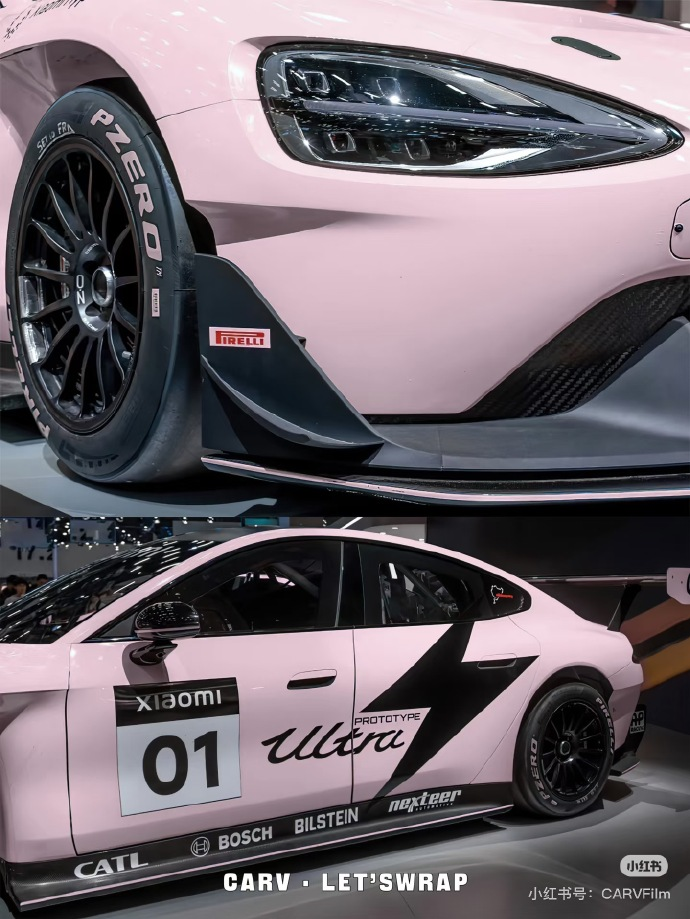su7: (2, 538, 650, 881)
